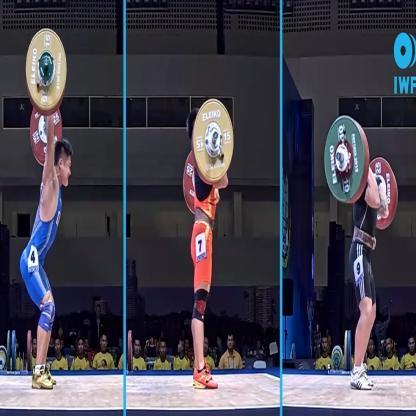barbell: (322, 116, 399, 232), (180, 96, 235, 215), (24, 26, 68, 166)
